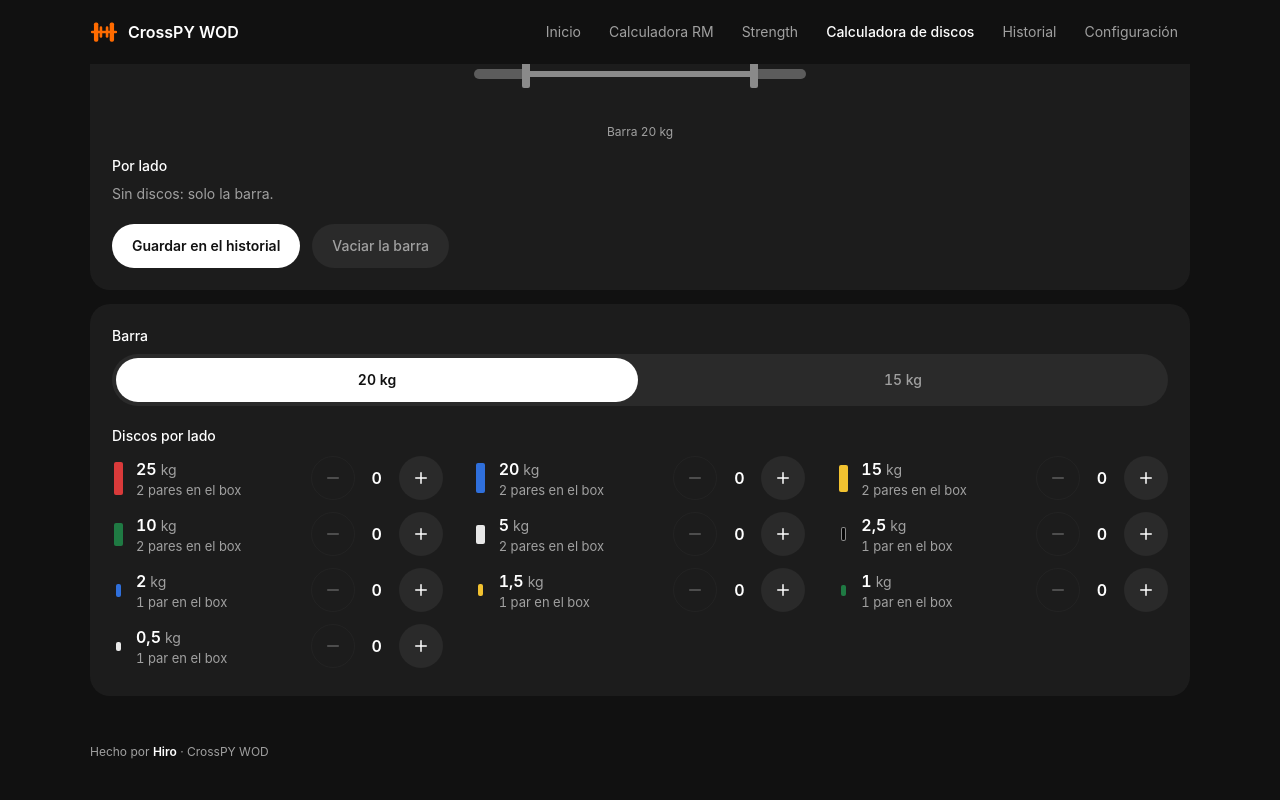
Test: Calculadora de discos › suma los discos de ambos lados y respeta el inventario
(page scrolled)
Click the button named "Agregar: discos de 25 kg por lado" at {"x": 421, "y": 478}, box [399, 456, 443, 500]
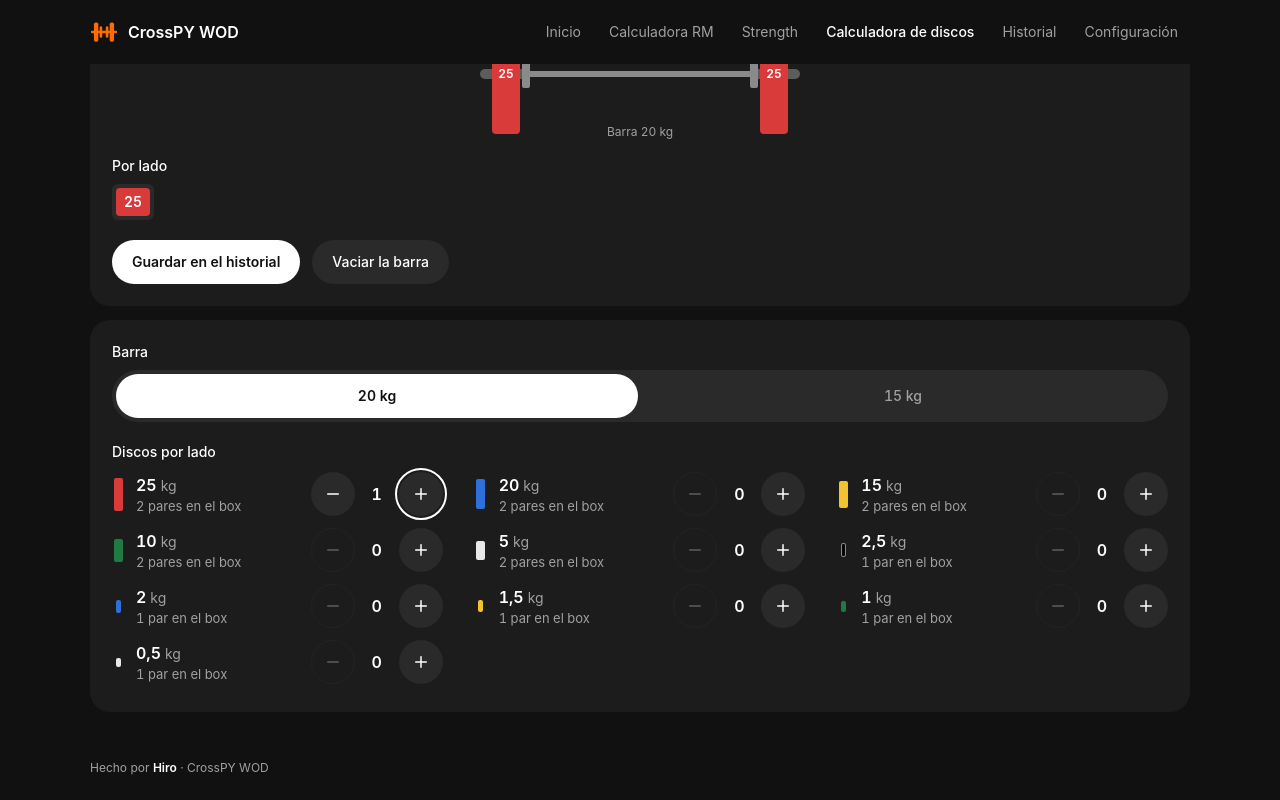
Click the button named "Agregar: discos de 25 kg por lado" at {"x": 421, "y": 494}, box [399, 472, 443, 516]
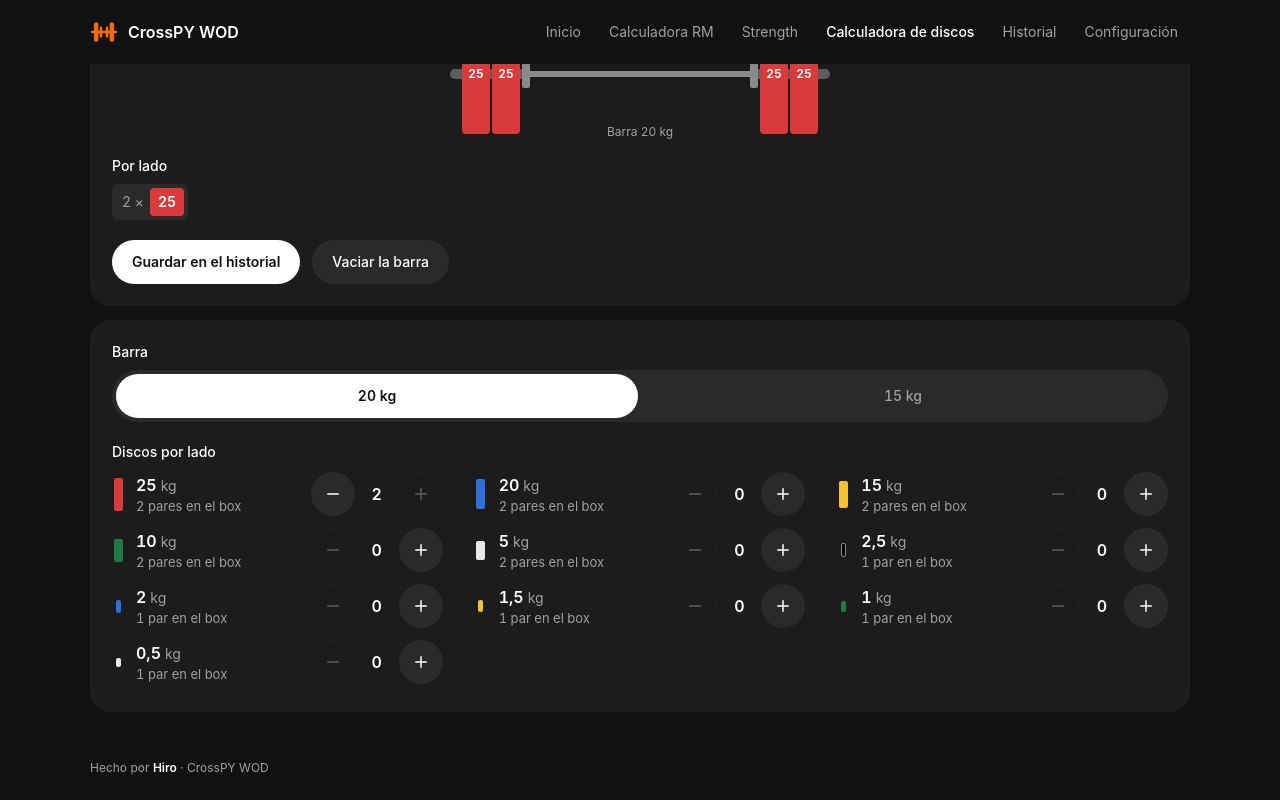
Expected: the button named "Agregar: discos de 25 kg por lado" is disabled, [399, 472, 443, 516]
